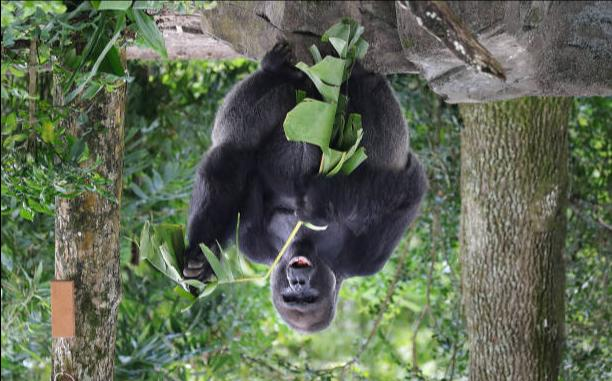gorille_Autres: (183, 27, 415, 352)
